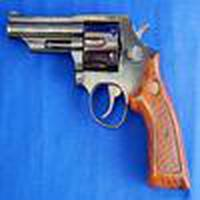gun: (5, 16, 190, 186)
